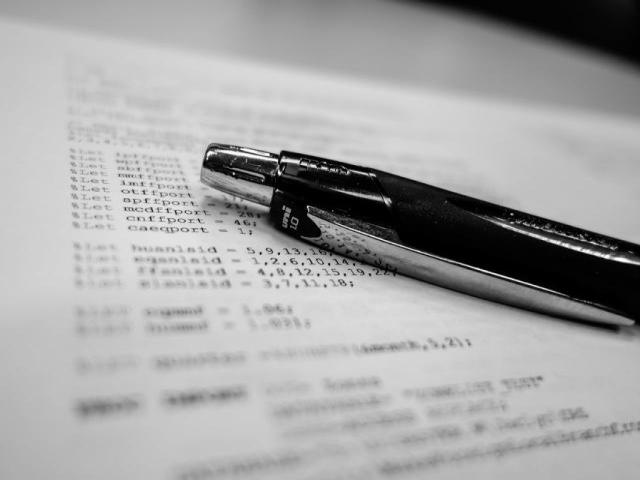PEN: (190, 130, 640, 362)
